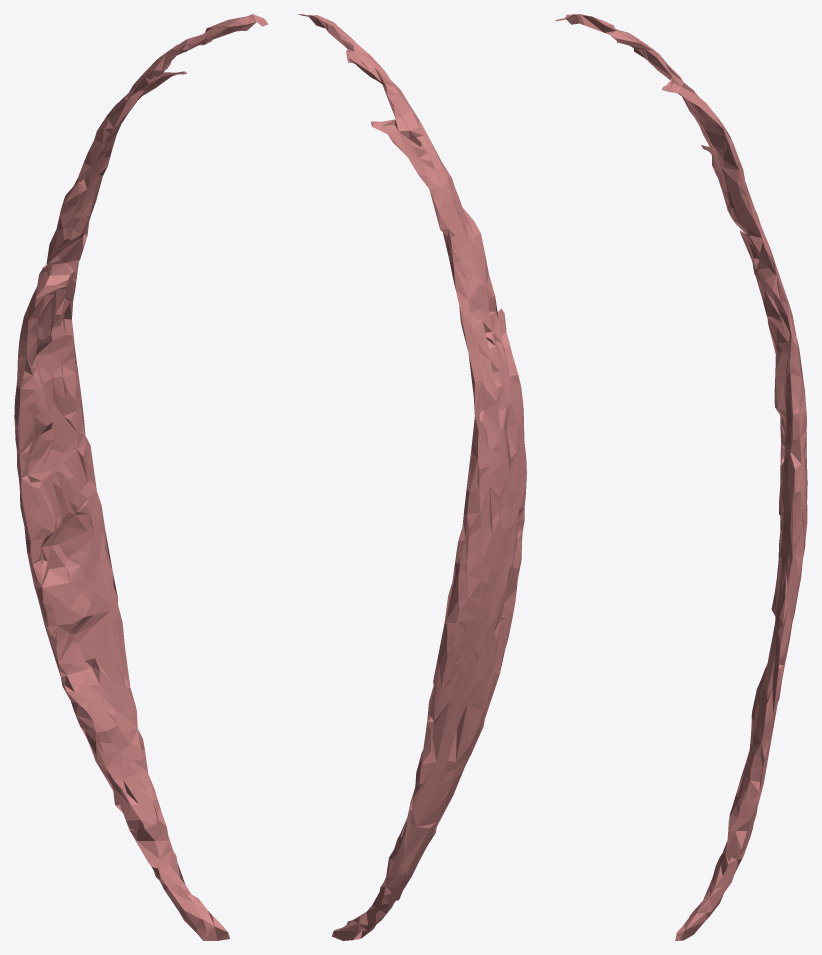
File: Iliocostalis_thoracis_muscle.r.glb
The picture shows the model from 3 angles, left to right: view 1: azimuth 30°, elevation 25°; view 2: azimuth 210°, elevation 25°; view 3: azimuth 270°, elevation 25°; orthographic projection. The views are drawn at different scales.
Parts seen in each view (by area): view 1: Iliocostalis_thoracis_muscle.r; view 2: Iliocostalis_thoracis_muscle.r; view 3: Iliocostalis_thoracis_muscle.r.
Part boxes in pixels (x1,y1,x2,y2): Iliocostalis_thoracis_muscle.r: [14, 14, 268, 940]; Iliocostalis_thoracis_muscle.r: [297, 14, 526, 940]; Iliocostalis_thoracis_muscle.r: [555, 14, 807, 940].
Bounding box in the file's own units: 0.0538 × 0.3149 × 0.0786.
